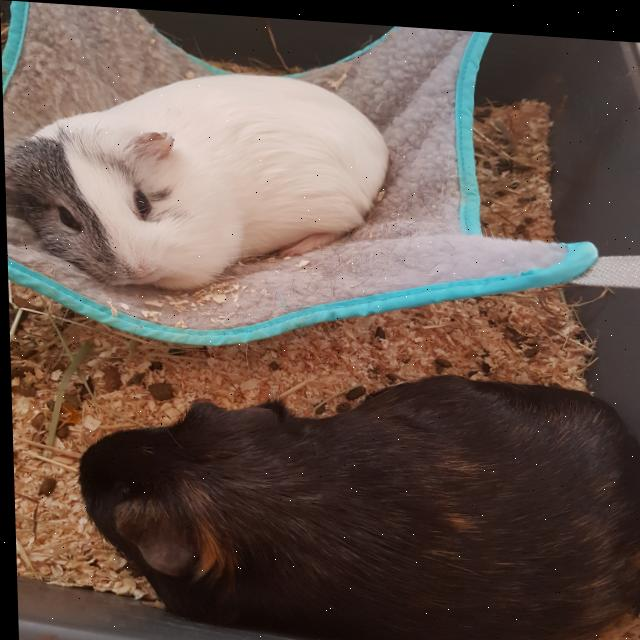guinea pig: (68, 347, 640, 640), (2, 54, 391, 303)
